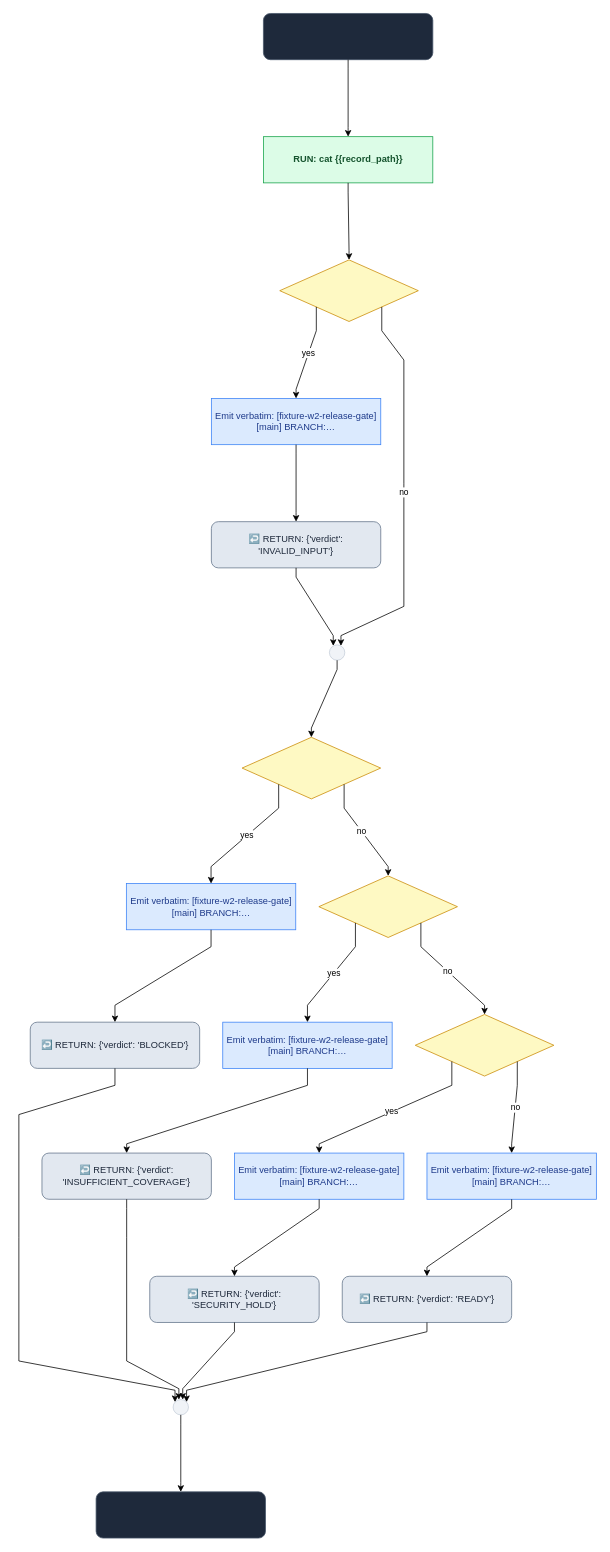
Image size: 610x1552. Some labels were removed from this diagram. Here are the shapes that lost their labels. From the top down, the box of each, then its label:
(263, 13, 433, 60): ▶ fixture-w2-release-gate
(279, 259, 418, 321): record_path was not provided, the file could not be re…
(241, 737, 381, 799): blocking_bugs is greater than 0
(318, 875, 457, 937): coverage is below 80
(414, 1014, 554, 1076): security_review is not "passed"
(95, 1491, 265, 1538): ⏹ end
